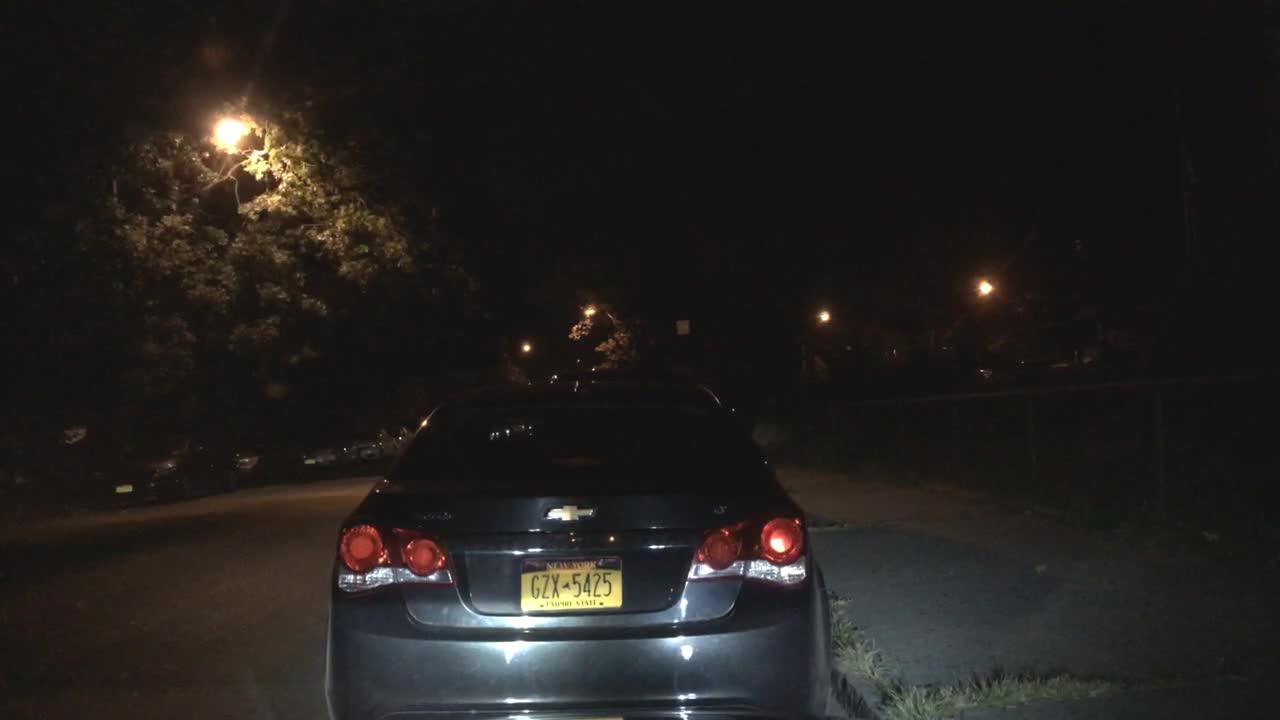chevrolet: (541, 498, 605, 527)
